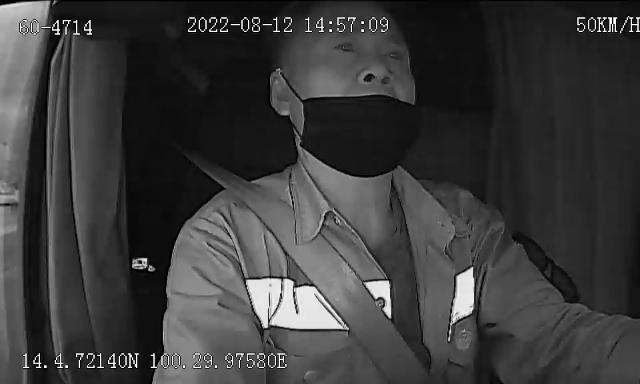SafeDriving: (378, 42, 408, 66)
Seatbelt: (191, 158, 435, 384)
